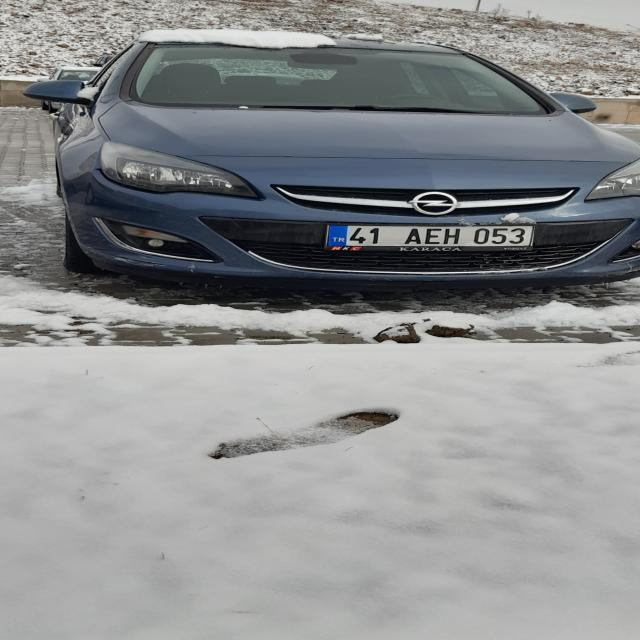license_plate: (326, 226, 533, 247)
